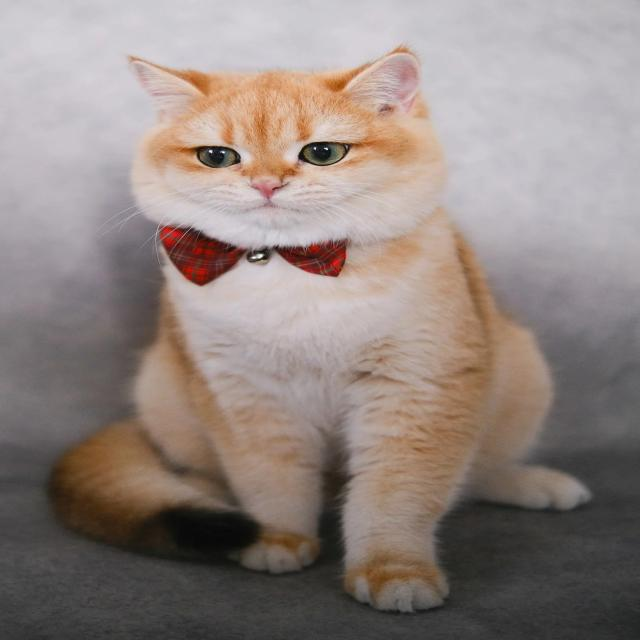cat: (42, 49, 599, 616)
